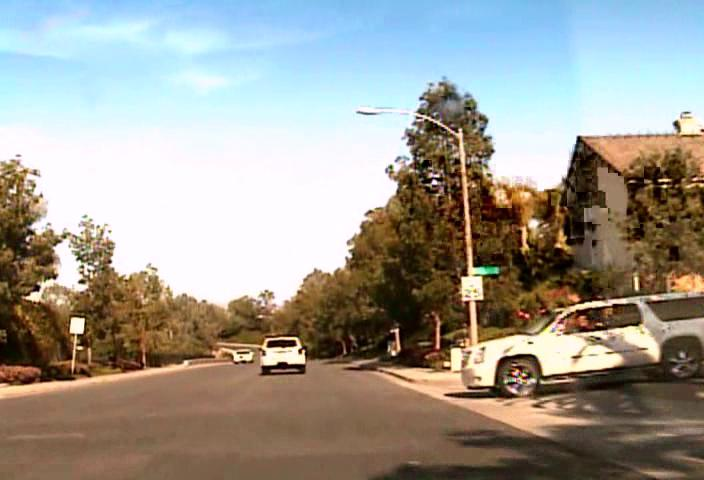speedLimit25: (459, 275, 483, 301)
